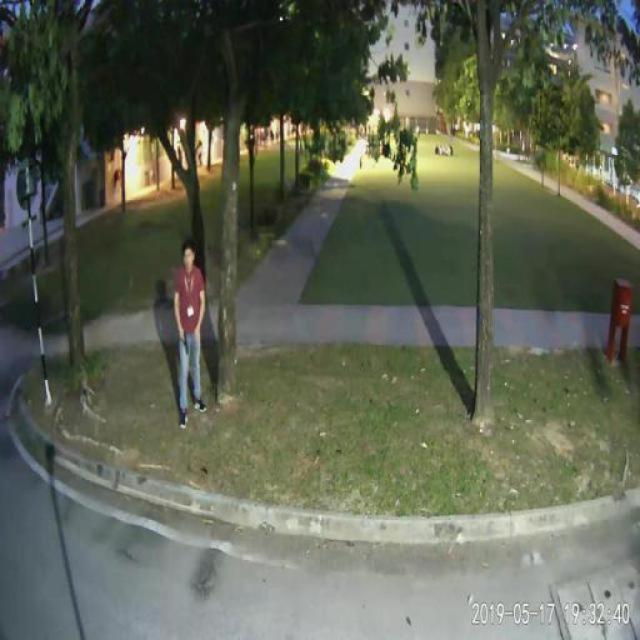pistol: (178, 328, 186, 352)
